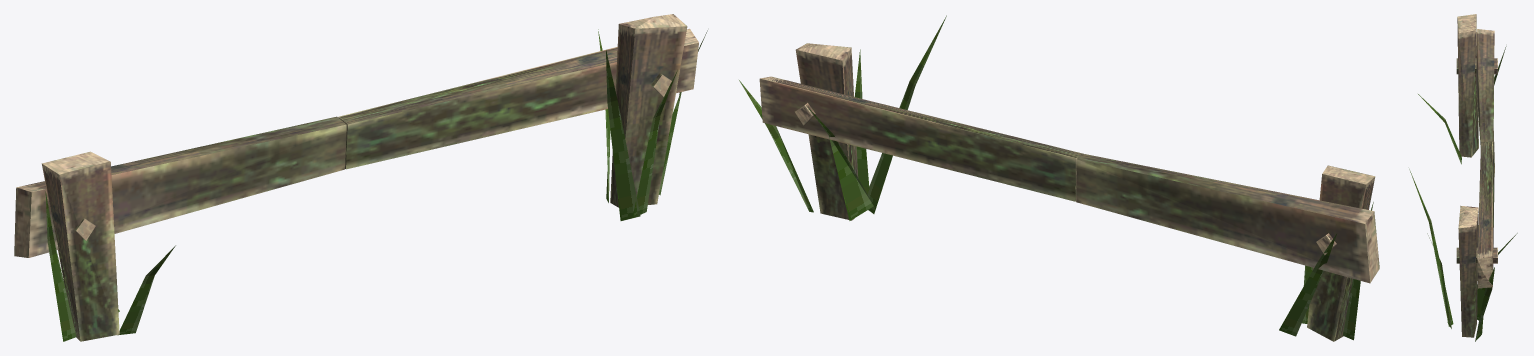
File: C1SMWDFNCEDESH.obj
3 views of the same model, side by side, from view 1: azimuth 30°, elevation 25°; view 2: azimuth 150°, elevation 25°; view 3: azimuth 270°, elevation 25° (orthographic). The views are drawn at different scales.
Visible parts, largest first — view 1: Node 6, Node 1, Node 0, Node 2; view 2: Node 6, Node 1, Node 0, Node 2; view 3: Node 0, Node 2, Node 1, Node 6, Node 3, Node 4.
Boxes of the visible parts, x1,y1,x2,y2 form: Node 6: (14, 116, 346, 257); Node 1: (338, 28, 698, 169); Node 0: (45, 14, 707, 341); Node 2: (41, 151, 119, 341); Node 6: (1076, 154, 1379, 283); Node 1: (759, 76, 1083, 201); Node 0: (739, 15, 1373, 340); Node 2: (1307, 165, 1375, 341); Node 0: (1409, 46, 1517, 341); Node 2: (1457, 14, 1478, 157); Node 1: (1477, 141, 1494, 288); Node 6: (1475, 29, 1494, 172); Node 3: (1456, 247, 1497, 263); Node 4: (1456, 58, 1497, 74).
Size of the model in its own units: 10.88 by 3.12 by 2.22.
7 materials, 7 textured.
